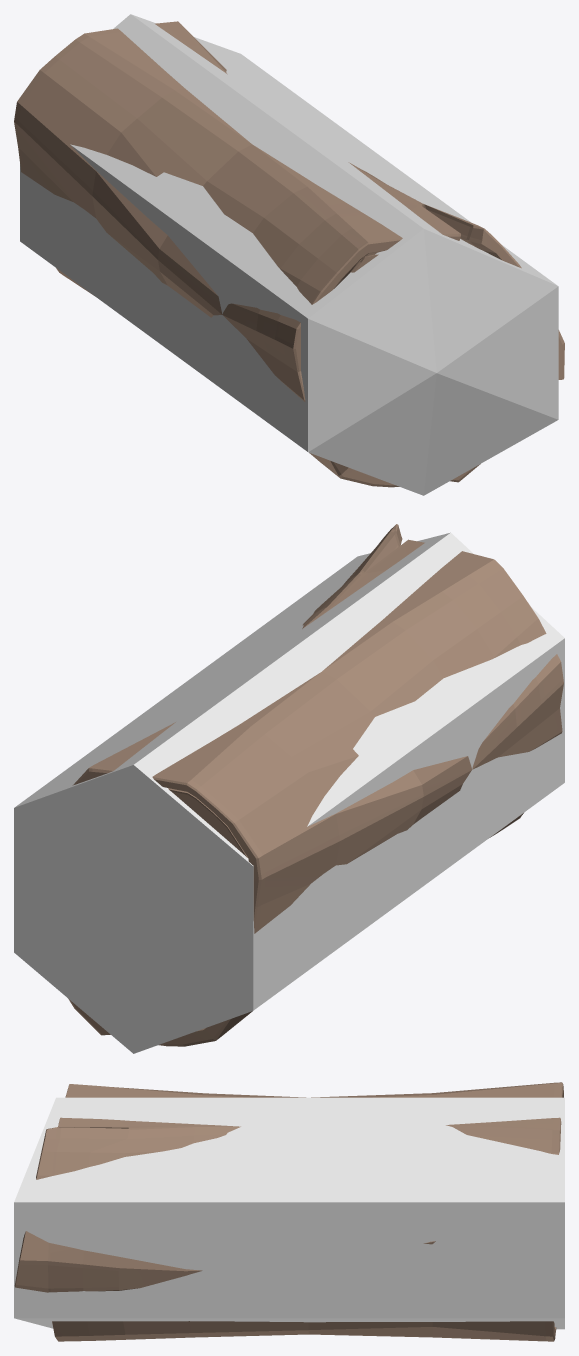
The model's file is log_wood.fbx.
3 views of the same model, one above another, from view 1: azimuth 30°, elevation 25°; view 2: azimuth 150°, elevation 25°; view 3: azimuth 270°, elevation 25° (orthographic). The views are drawn at different scales.
Parts seen in each view (by area): view 1: c_log_wood, log_wood; view 2: c_log_wood, log_wood; view 3: c_log_wood, log_wood.
Boxes of the visible parts, x1,y1,x2,y2 form: c_log_wood: (20,14,558,495); log_wood: (14,21,564,487); c_log_wood: (14,532,564,1053); log_wood: (68,524,563,1046); c_log_wood: (14,1097,564,1329); log_wood: (14,1082,563,1341).
Bounding box in the file's own units: 49.06 × 52 × 112.
